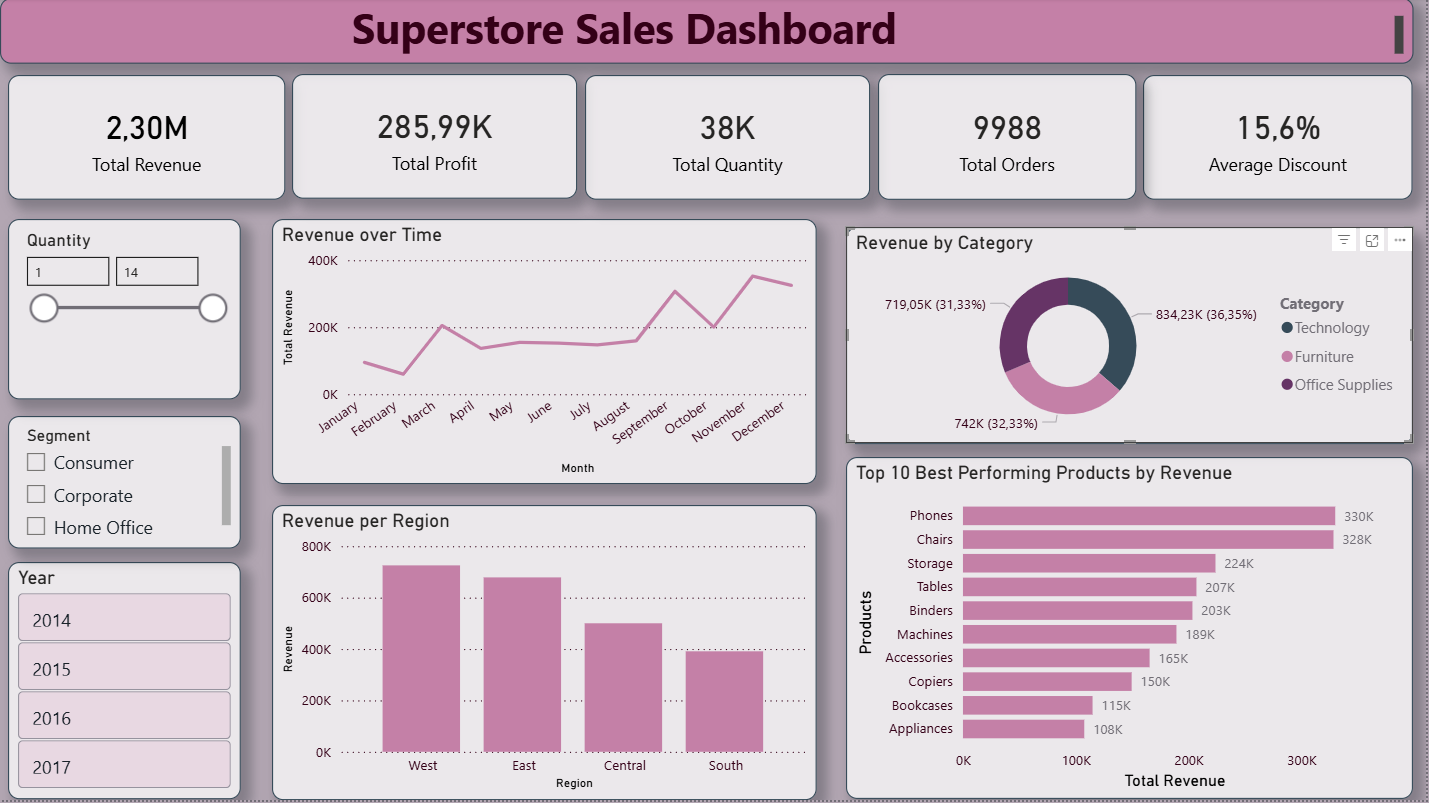

The dashboard page shown, as its layout file describes it:
{"tool":"powerbi","page":{"name":"Page 1","canvas":[1280,720],"ordinal":0},"visuals":[{"type":"donutChart","title":"Revenue by Category","fields":{"Category":["Superstore_data.Category"],"Y":["Sum(Superstore_data.Sales)"]},"box":[759.6,205.2,508.7,194.5],"z":0},{"type":"lineChart","title":"Revenue over Time","fields":{"Category":["Superstore_data.Order Date.Variation.Date Hierarchy.Year","Superstore_data.Order Date.Variation.Date Hierarchy.Quarter","Superstore_data.Order Date.Variation.Date Hierarchy.Month"],"Y":["Sum(Superstore_data.Sales)"]},"box":[244.1,198.4,489.2,238.3],"z":1000},{"type":"clusteredBarChart","title":"Top 10 Best Performing Products by Revenue","fields":{"Category":["Superstore_data.Sub-Category"],"Y":["Sum(Superstore_data.Sales)"]},"box":[759.6,412.4,508.7,307.4],"z":2000},{"type":"columnChart","title":"Revenue per Region","fields":{"Y":["Sum(Superstore_data.Sales)"],"Category":["Superstore_data.Region"]},"box":[244.1,455.2,489.2,264.6],"z":3000},{"type":"advancedSlicerVisual","fields":{"Values":["Superstore_data.Order Date.Variation.Date Hierarchy.Year"]},"box":[6.8,506.7,209.1,213],"z":4000},{"type":"slicer","fields":{"Values":["Superstore_data.Segment"]},"box":[7.2,375.3,209.2,118.5],"z":5000},{"type":"textbox","box":[0,0,1268.5,59.3],"z":6000},{"type":"card","fields":{"Values":["Sum(Superstore_data.Sales)"]},"box":[6.8,69.1,249,111.9],"z":7000},{"type":"card","fields":{"Values":["Sum(Superstore_data.Profit)"]},"box":[262.1,68.2,255.9,112.2],"z":8000},{"type":"card","fields":{"Values":["Sum(Superstore_data.Quantity)"]},"box":[525.2,69.1,255.9,112.2],"z":9000},{"type":"card","fields":{"Values":["Avg(Superstore_data.Discount)"]},"box":[1026.1,69.1,242.2,111.9],"z":10000},{"type":"slicer","fields":{"Values":["Superstore_data.Quantity"]},"box":[7.2,198.4,209.2,161.6],"z":11000},{"type":"card","fields":{"Values":["CountNonNull(Superstore_data.Order ID)"]},"box":[788.2,68.2,231.6,113.1],"z":12000}]}

Visuals, with their boxes in screenshot pixels (x1, y1, x2, y2), scaled from the page's 1280x720 canvas onto the 1429x803 screenshot:
"Revenue by Category" donutChart: [848,229,1416,446]
"Revenue over Time" lineChart: [273,221,819,487]
"Top 10 Best Performing Products by Revenue" clusteredBarChart: [848,460,1416,802]
"Revenue per Region" columnChart: [273,508,819,802]
advancedSlicerVisual - Superstore_data.Order Date.Variation.Date Hierarchy.Year: [8,565,241,802]
slicer - Superstore_data.Segment: [8,419,242,551]
textbox: [0,0,1416,66]
card - Sum(Superstore_data.Sales): [8,77,286,202]
card - Sum(Superstore_data.Profit): [293,76,578,201]
card - Sum(Superstore_data.Quantity): [586,77,872,202]
card - Avg(Superstore_data.Discount): [1146,77,1416,202]
slicer - Superstore_data.Quantity: [8,221,242,402]
card - CountNonNull(Superstore_data.Order ID): [880,76,1139,202]
